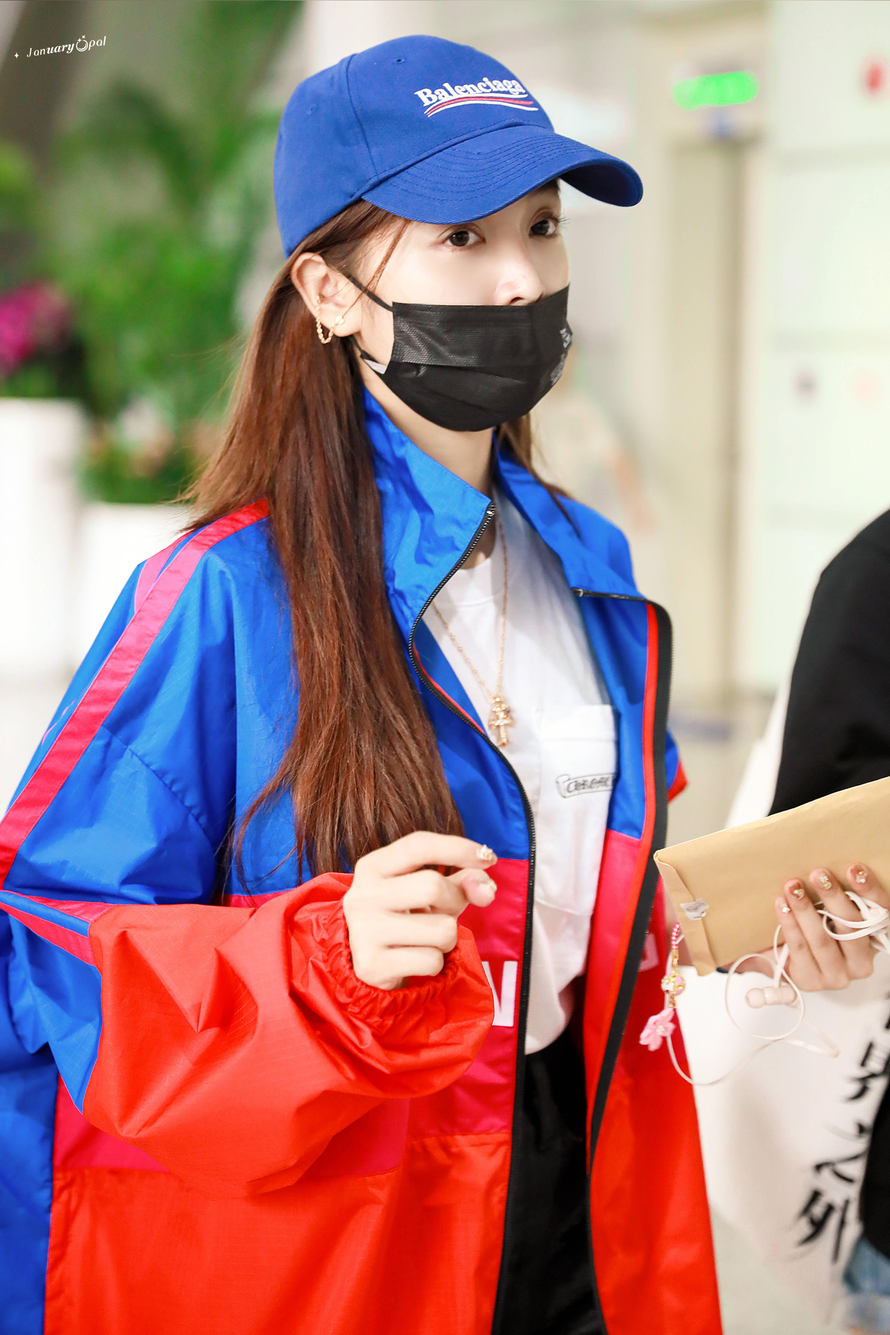WRONG: (364, 166, 569, 430)
